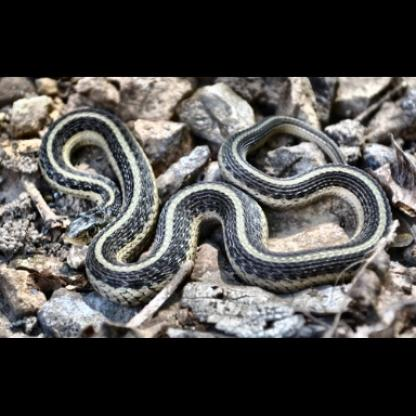Snake: (38, 105, 392, 331)
